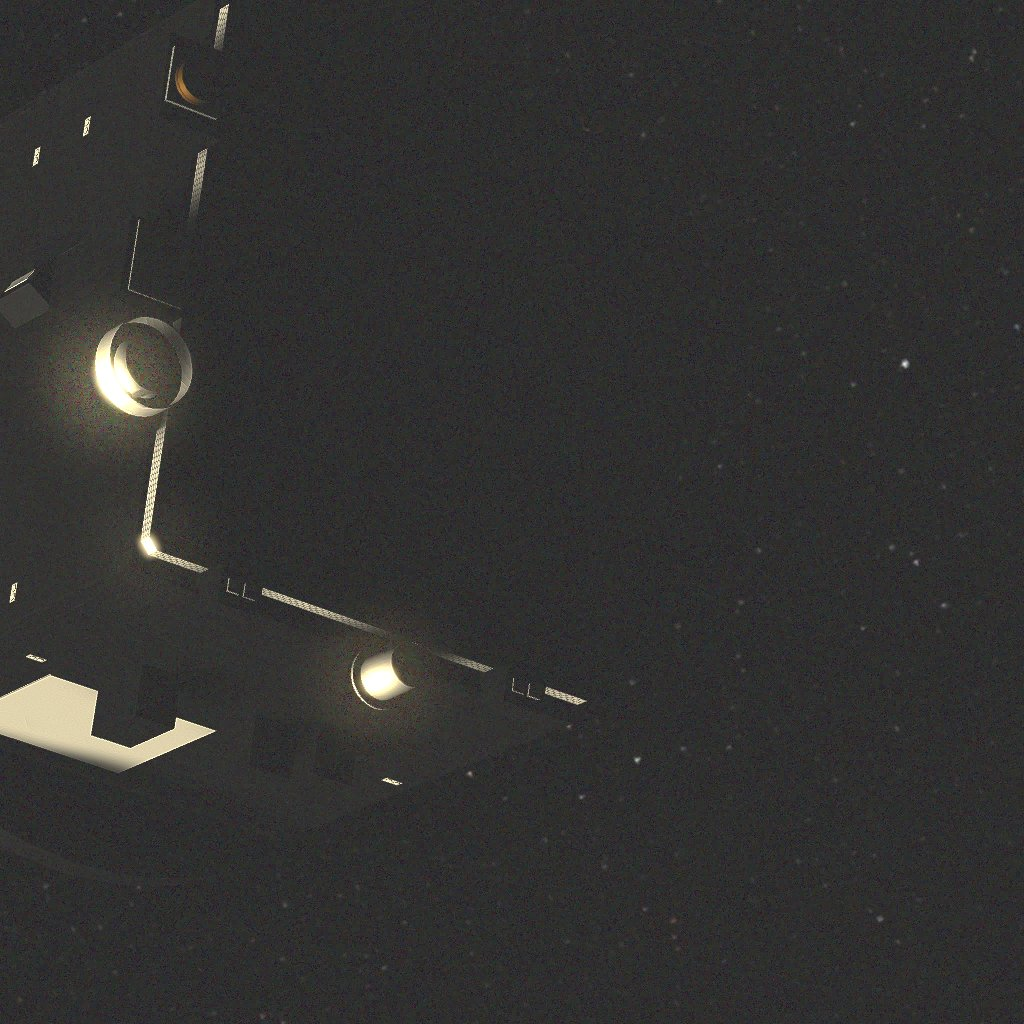proba_3_ocs: (18, 33, 727, 866)
